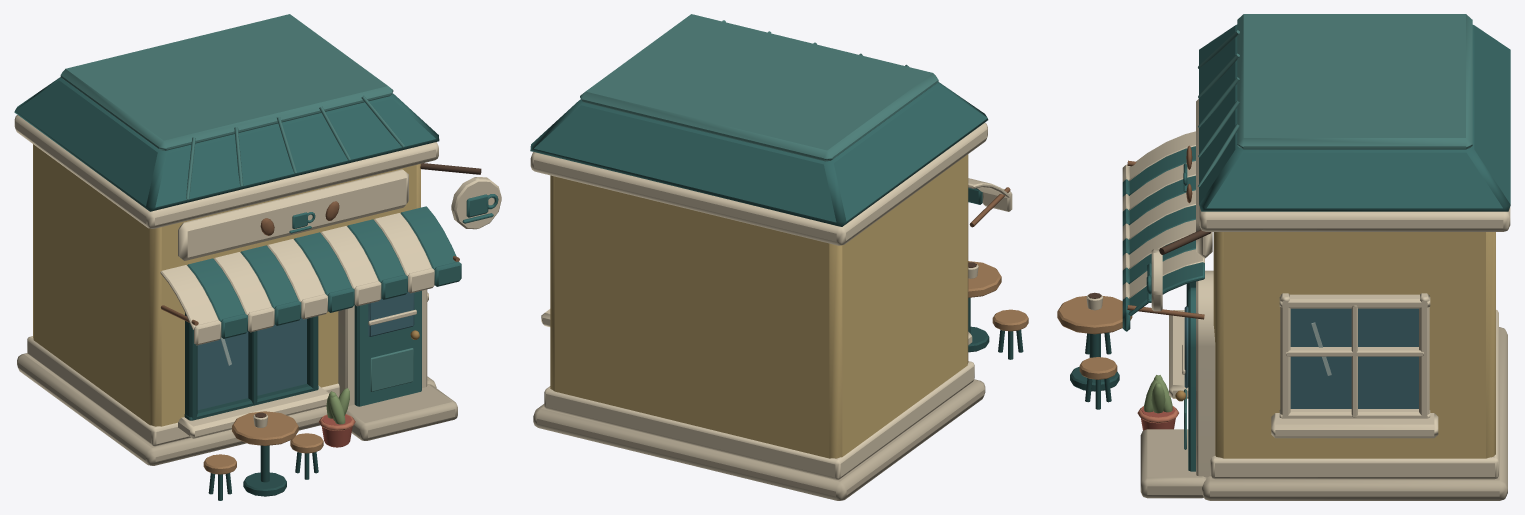
The model's file is cafe_level_2.glb.
The picture shows the model from 3 angles, left to right: view 1: azimuth 30°, elevation 25°; view 2: azimuth 150°, elevation 25°; view 3: azimuth 270°, elevation 25°; orthographic projection. The views are drawn at different scales.
Visible parts, largest first — view 1: cafe_level_2_runtime; view 2: cafe_level_2_runtime; view 3: cafe_level_2_runtime.
Part boxes in pixels (x1,y1,x2,y2): cafe_level_2_runtime: (14, 14, 501, 500); cafe_level_2_runtime: (530, 14, 1028, 500); cafe_level_2_runtime: (1057, 14, 1510, 500).
Bounding box in the file's own units: 3.69 × 3.27 × 3.85.
